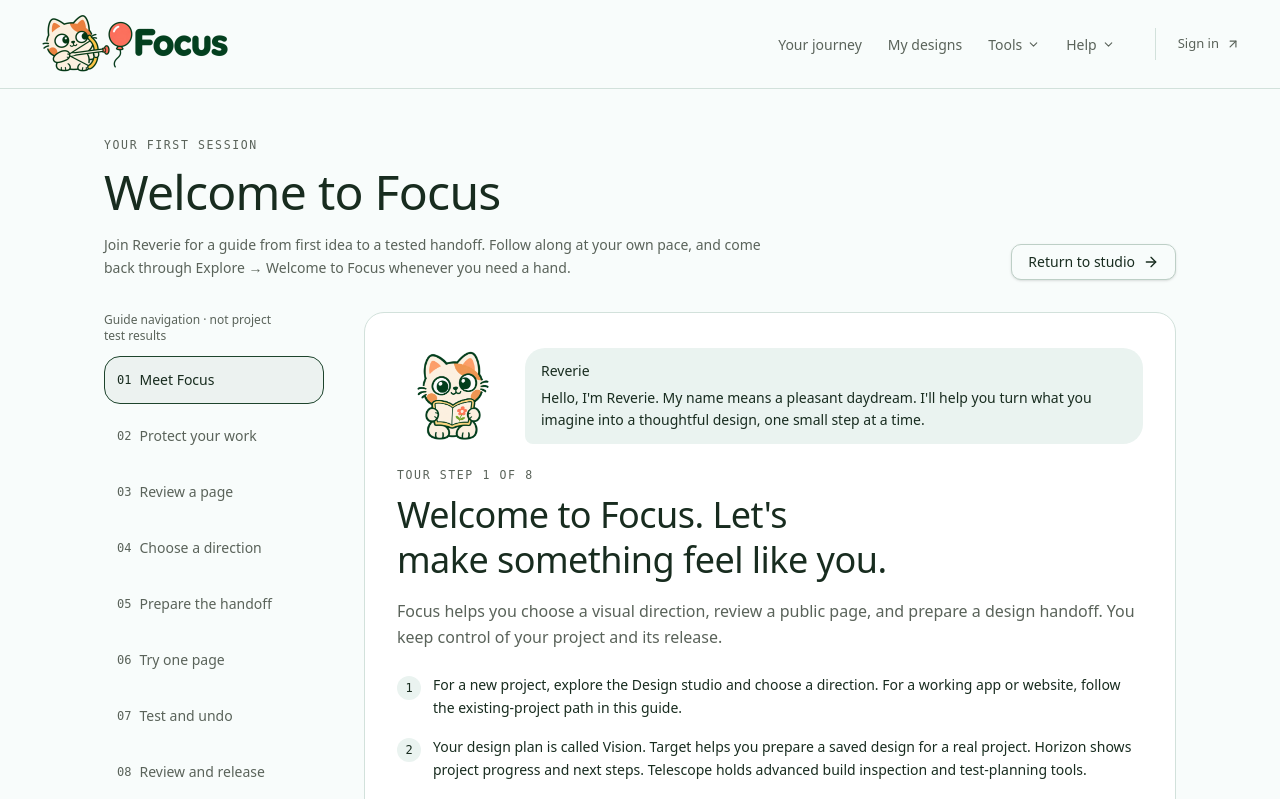
Reverie-guided welcome session › does not report a failed checklist download as successful
This screenshot has width=1280, height=799.
Click the button "05 Prepare the handoff".
click(214, 604)  # box [104,580,324,628]
(page scrolled)
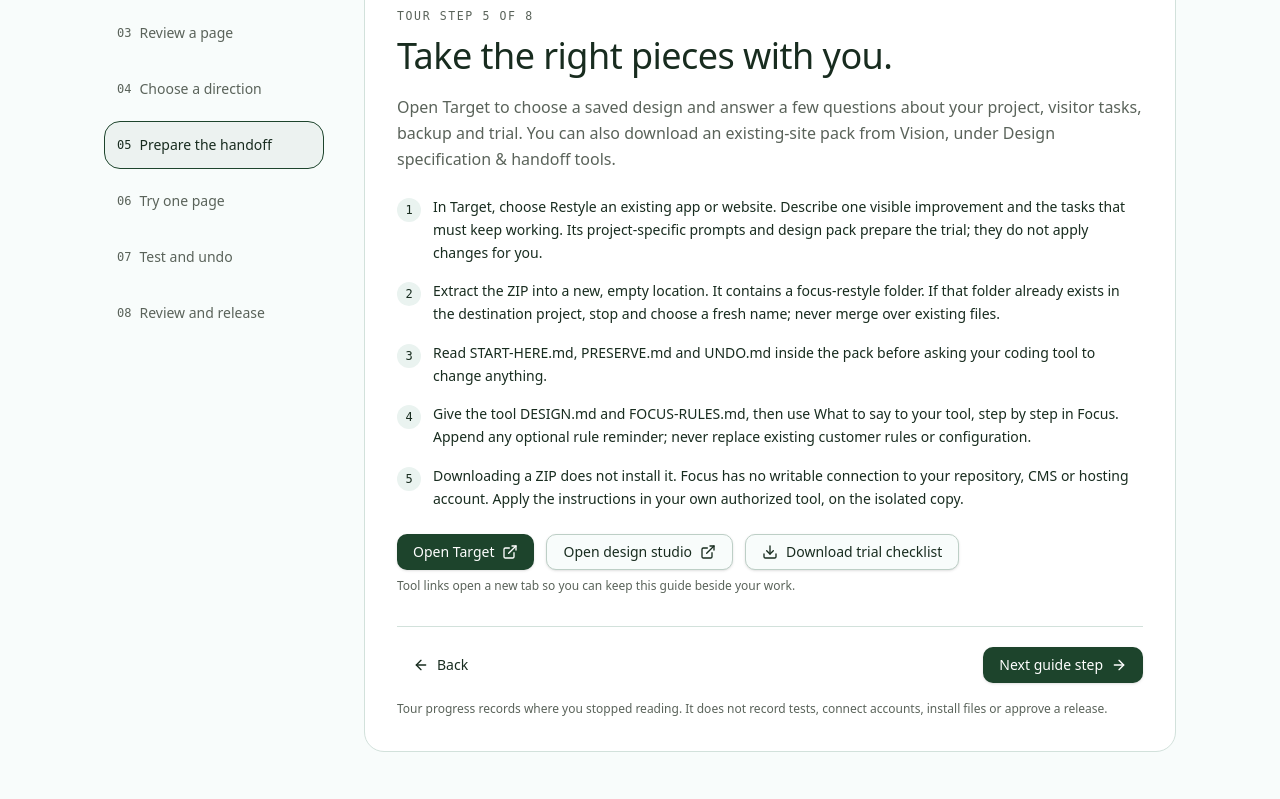
Click the button "Download trial checklist".
click(852, 552)  # box [745,534,959,570]
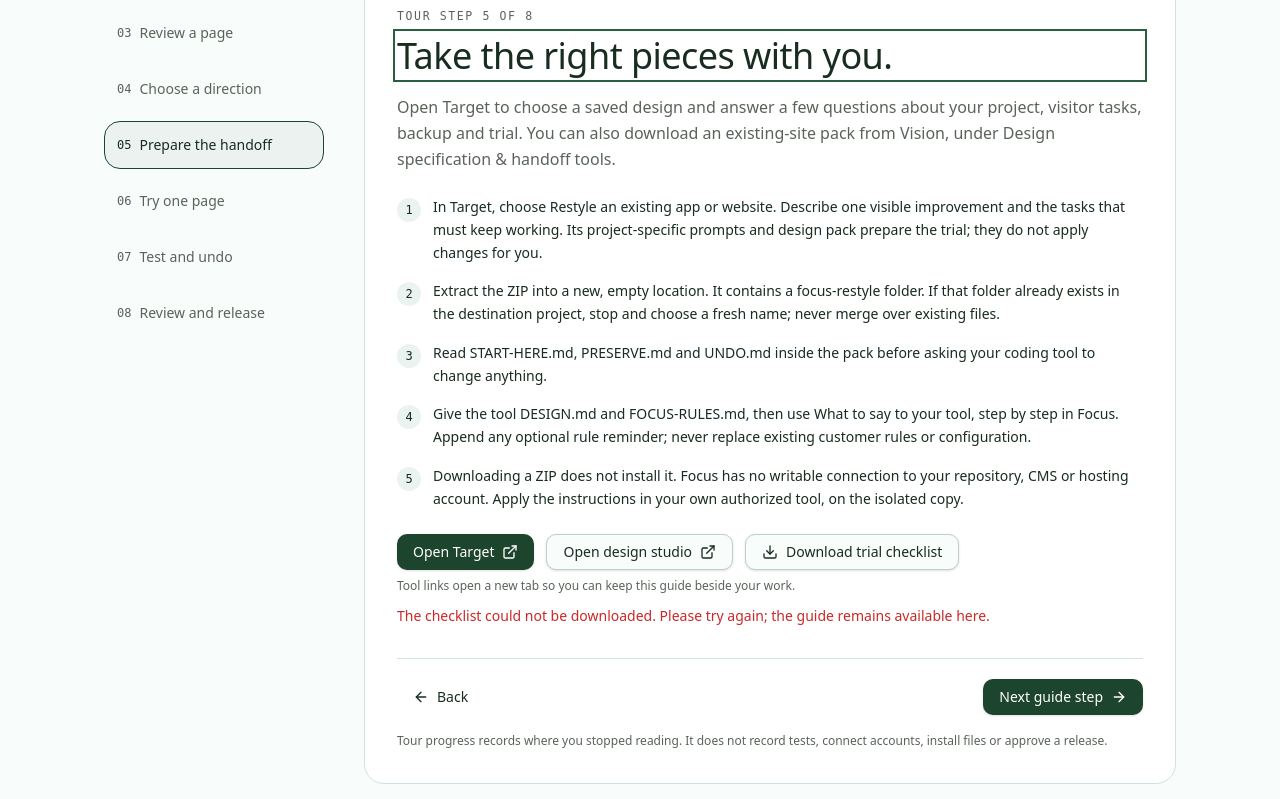
Expected: the message shows "could not be downloaded", [397,606,990,626]
